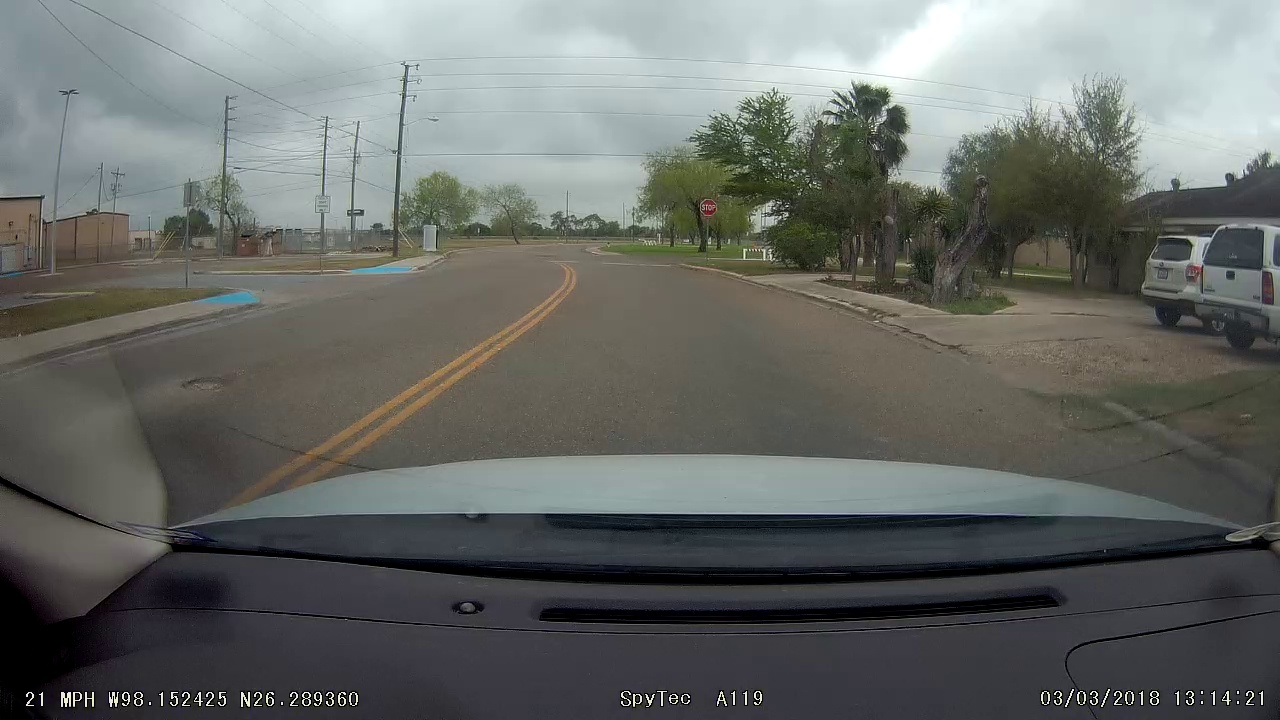pothole: (164, 363, 252, 402)
